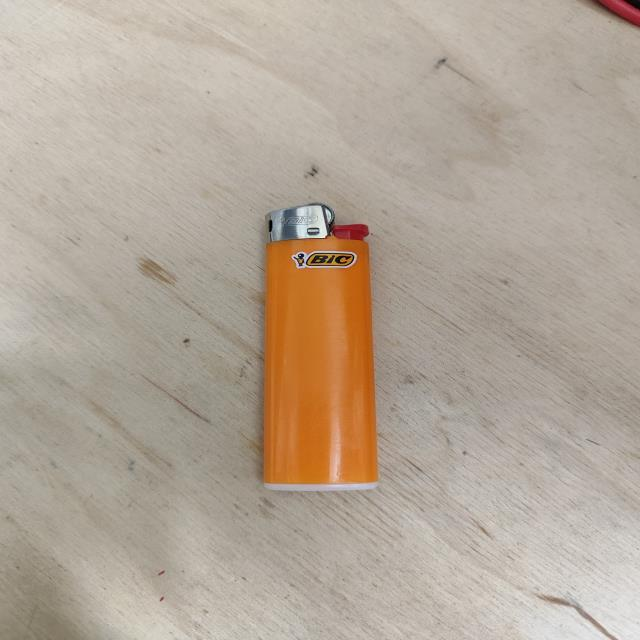lighter: (263, 203, 377, 490)
